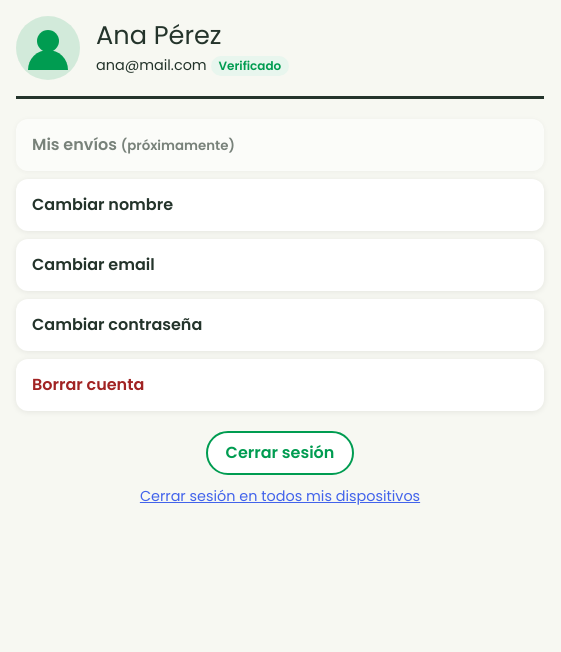
Test case: MiCuenta (RF-01, RF-24, RF-25) › cambiar el email avisa que llega un enlace; un email en uso va debajo del campo (RF-25)
The width and height of the screenshot is (561, 652).
Click the heading "Cambiar email" at (93, 264), box left=32, top=253, right=155, bottom=276
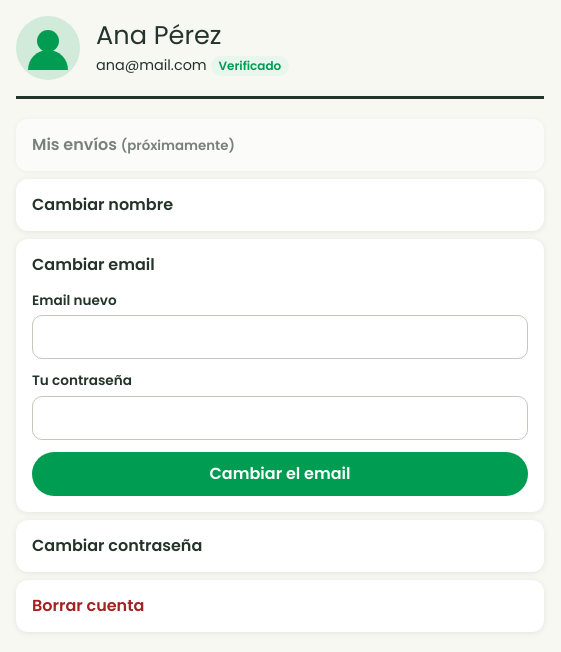
Type "otra@mail.com" into the field labelled "Email nuevo" at (280, 337), box left=32, top=315, right=528, bottom=359
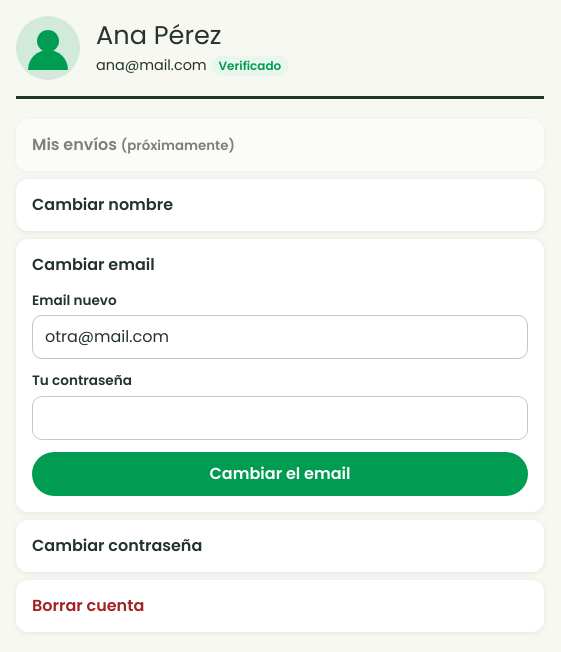
Type "clave1234" into the password field labelled "Tu contraseña" at (280, 418), box left=32, top=396, right=528, bottom=440
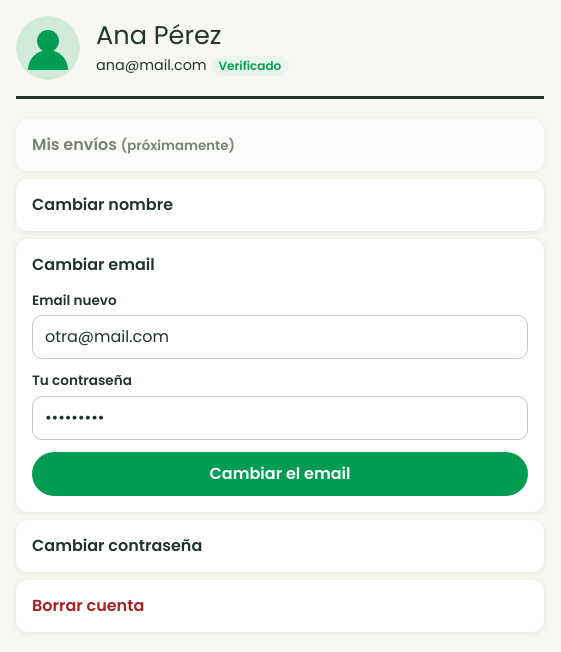
Click the button "Cambiar el email" at (280, 474), box left=32, top=452, right=528, bottom=496
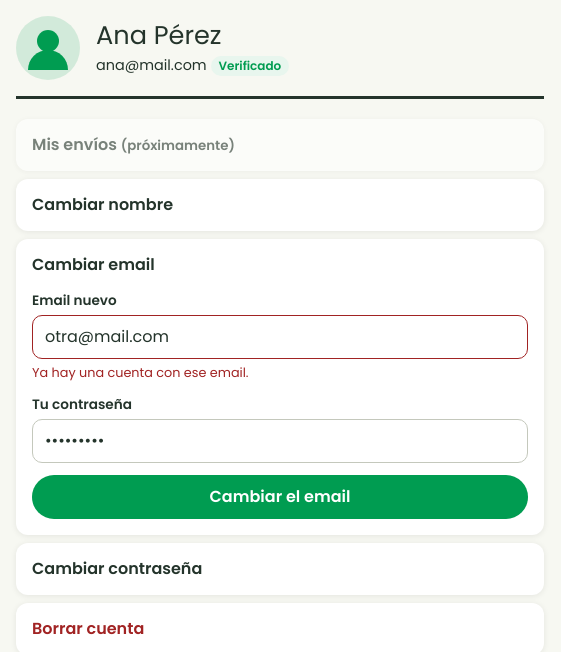
Click the button "Cambiar el email" at (280, 497), box left=32, top=475, right=528, bottom=519
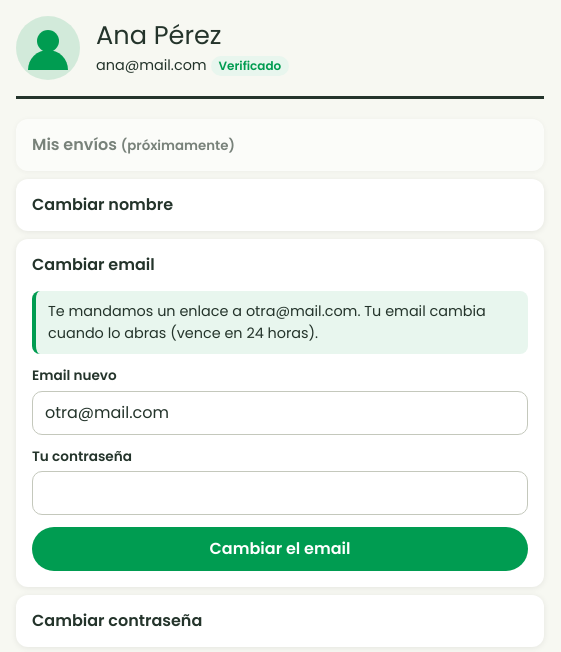
Result: the message shows "Te mandamos un enlace a otra@mail.com" at left=48, top=301, right=486, bottom=343
